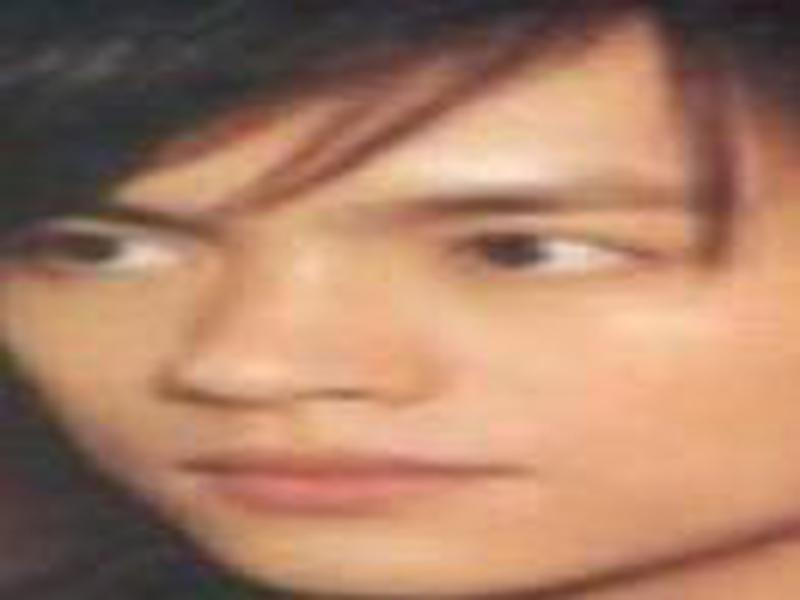without_mask: (4, 48, 759, 591)
